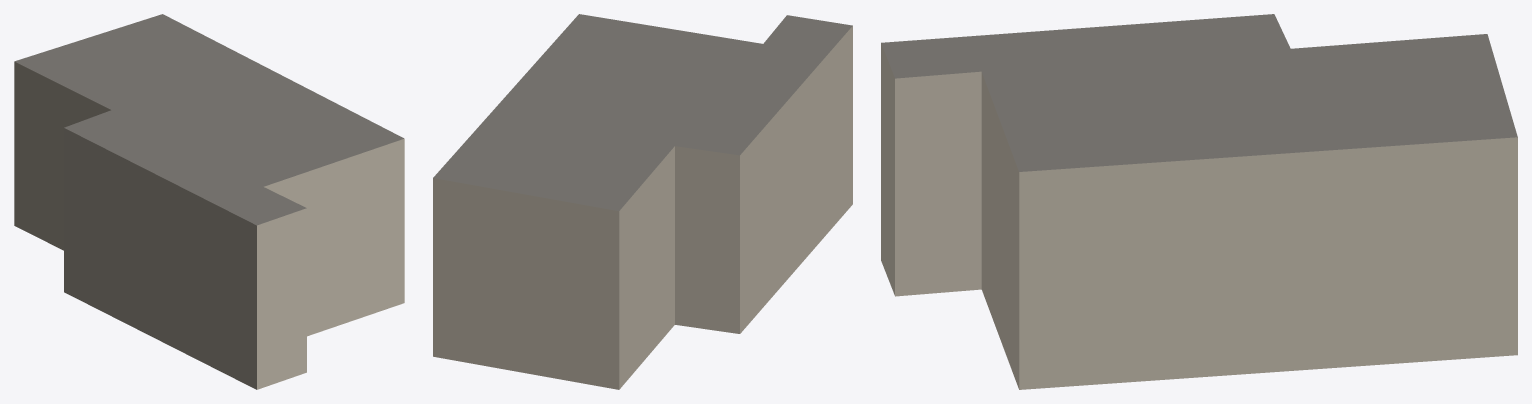
3 views of the same model, side by side, from view 1: azimuth 30°, elevation 25°; view 2: azimuth 150°, elevation 25°; view 3: azimuth 270°, elevation 25° (orthographic). The views are drawn at different scales.
Parts seen in each view (by area): view 1: HP-w505646881; view 2: HP-w505646881; view 3: HP-w505646881.
Part boxes in pixels (x1,y1,x2,y2): HP-w505646881: (14,14,404,389); HP-w505646881: (433,14,852,389); HP-w505646881: (881,14,1517,389).
Size of the model in its own units: 23.34 by 15 by 39.73.
